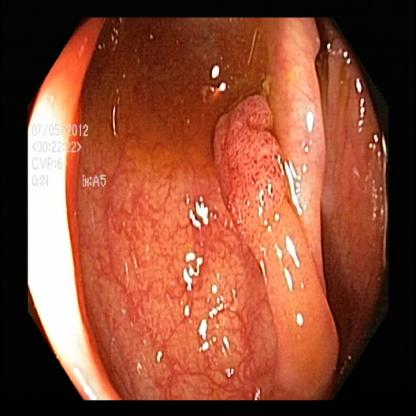Polyps: (203, 92, 295, 242)
